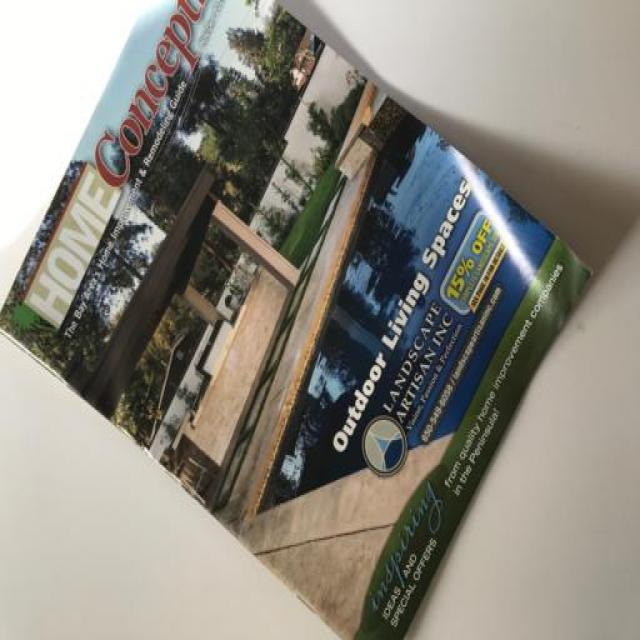paper: (1, 2, 607, 640)
